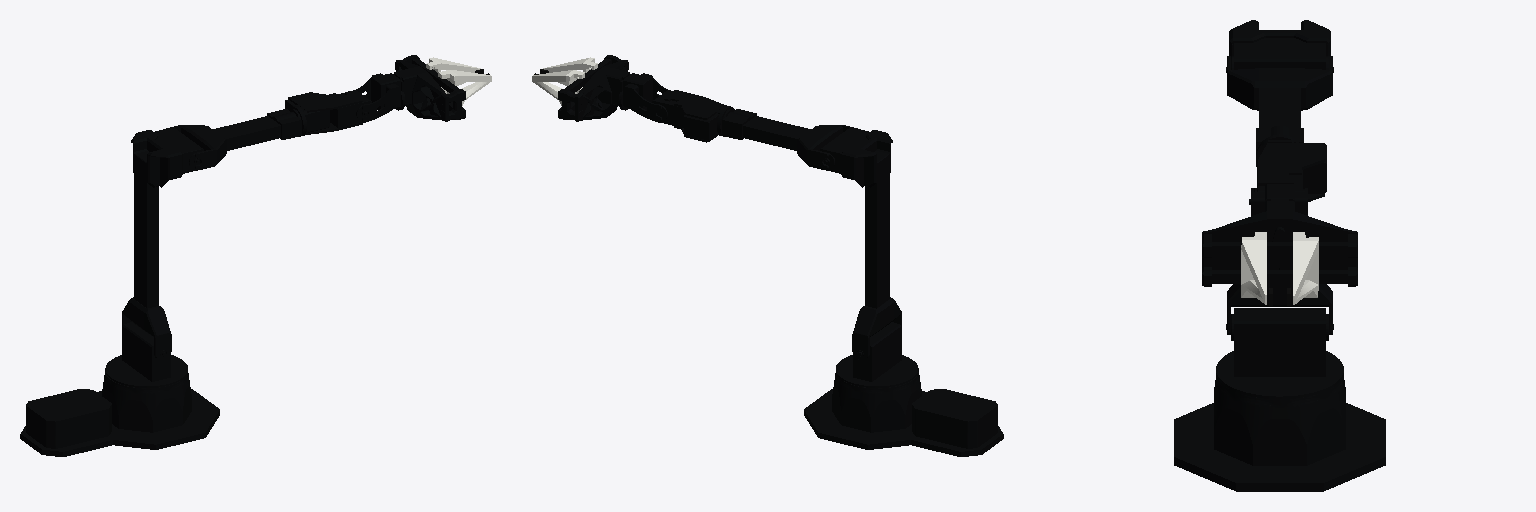
URDF robot description (aloha_right):
<?xml version='1.0' encoding='utf-8'?>
<robot name="aloha_right">
  <link name="right">
    <inertial>
      <mass value="0.1" />
      <inertia ixx=".0001" iyy=".0001" izz=".0001" ixy="0" ixz="0" iyz="0" />
    </inertial>
    <visual>
      <origin xyz="0 0 0" rpy="0 0 1.570796327" />
      <geometry>
        <mesh filename="meshes/vx300s_1_base.stl" />
      </geometry>
      <material name="black_robot">
        <color rgba=".065 .07 .075 1" />
      </material>
    </visual>
  </link>
  <link name="right_shoulder_link">
    <inertial>
      <origin xyz="0.000259233 -3.3552e-06 0.0116129" rpy="1.570025565 -1.477348336 -3.140821891" />
      <mass value="0.798614" />
      <inertia ixx="0.00120156" iyy="0.00113744" izz="0.0009388" ixy="0" ixz="0" iyz="0" />
    </inertial>
    <visual>
      <origin xyz="0 0 -0.003" rpy="0 0 1.570796327" />
      <geometry>
        <mesh filename="meshes/vx300s_2_shoulder.stl" />
      </geometry>
      <material name="black_robot">
        <color rgba=".065 .07 .075 1" />
      </material>
    </visual>
    <collision>
      <origin xyz="0 0 -0.003" rpy="0 0 1.570796327" />
      <geometry>
        <mesh filename="meshes/vx300s_2_shoulder.stl" />
      </geometry>
    </collision>
  </link>
  <joint name="right_waist" type="revolute">
    <parent link="right" />
    <child link="right_shoulder_link" />
    <origin xyz="0 0 0.079" rpy="0 0 0" />
    <axis xyz="0 0 1" />
    <limit lower="-3.14158" upper="3.14158" effort="80" velocity="5" />
    <dynamics damping="0.1" />
    <rest>0</rest>
  </joint>
  <link name="right_upper_arm_link">
    <inertial>
      <origin xyz="0.0206949 4e-10 0.226459" rpy="0 -0.1458207924 3.141592654" />
      <mass value="0.792592" />
      <inertia ixx="0.00911338" iyy="0.008925" izz="0.000759317" ixy="0" ixz="0" iyz="0" />
    </inertial>
    <visual>
      <origin xyz="0 0 0" rpy="0 0 1.570796327" />
      <geometry>
        <mesh filename="meshes/vx300s_3_upper_arm.stl" />
      </geometry>
      <material name="black_robot">
        <color rgba=".065 .07 .075 1" />
      </material>
    </visual>
    <collision>
      <origin xyz="0 0 0" rpy="0 0 1.570796327" />
      <geometry>
        <mesh filename="meshes/vx300s_3_upper_arm.stl" />
      </geometry>
    </collision>
  </link>
  <joint name="right_shoulder" type="revolute">
    <parent link="right_shoulder_link" />
    <child link="right_upper_arm_link" />
    <origin xyz="0 0 0.04805" rpy="0 0 0" />
    <axis xyz="0 1 0" />
    <limit lower="-1.85005" upper="1.25664" effort="80" velocity="5" />
    <dynamics damping="0.1" />
    <rest>-0.96</rest>
  </joint>
  <link name="right_upper_forearm_link">
    <inertial>
      <origin xyz="0.105723 0 0" rpy="1.137466858 -1.555300818 2.019896091" />
      <mass value="0.322228" />
      <inertia ixx="0.00144107" iyy="0.00134228" izz="0.000152047" ixy="0" ixz="0" iyz="0" />
    </inertial>
    <visual>
      <origin xyz="0 0 0" rpy="0 0 0" />
      <geometry>
        <mesh filename="meshes/vx300s_4_upper_forearm.stl" />
      </geometry>
      <material name="black_robot">
        <color rgba=".065 .07 .075 1" />
      </material>
    </visual>
    <collision>
      <origin xyz="0 0 0" rpy="0 0 0" />
      <geometry>
        <mesh filename="meshes/vx300s_4_upper_forearm.stl" />
      </geometry>
    </collision>
  </link>
  <joint name="right_elbow" type="revolute">
    <parent link="right_upper_arm_link" />
    <child link="right_upper_forearm_link" />
    <origin xyz="0.05955 0 0.3" rpy="0 0 0" />
    <axis xyz="0 1 0" />
    <limit lower="-1.76278" upper="1.6057" effort="80" velocity="5" />
    <dynamics damping="0.1" />
    <rest>1.16</rest>
  </joint>
  <link name="right_lower_forearm_link">
    <inertial>
      <origin xyz="0.0513477 0.00680462 0" rpy="0.2258271179 1.570796327 0" />
      <mass value="0.414823" />
      <inertia ixx="0.0005911" iyy="0.000546493" izz="0.000155707" ixy="0" ixz="0" iyz="0" />
    </inertial>
    <visual>
      <origin xyz="0 0 0" rpy="3.141592654 0 0" />
      <geometry>
        <mesh filename="meshes/vx300s_5_lower_forearm.stl" />
      </geometry>
      <material name="black_robot">
        <color rgba=".065 .07 .075 1" />
      </material>
    </visual>
    <collision>
      <origin xyz="0 0 0" rpy="3.141592654 0 0" />
      <geometry>
        <mesh filename="meshes/vx300s_5_lower_forearm.stl" />
      </geometry>
    </collision>
  </link>
  <joint name="right_forearm_roll" type="revolute">
    <parent link="right_upper_forearm_link" />
    <child link="right_lower_forearm_link" />
    <origin xyz="0.2 0 0" rpy="0 0 0" />
    <axis xyz="1 0 0" />
    <limit lower="-3.14158" upper="3.14158" effort="80" velocity="5" />
    <dynamics damping="0.1" />
    <rest>0</rest>
  </joint>
  <link name="right_wrist_link">
    <inertial>
      <origin xyz="0.046743 -7.6652e-06 0.010565" rpy="0.008277755597 -1.151791261 3.138606937" />
      <mass value="0.115395" />
      <inertia ixx="5.45707e-05" iyy="4.63101e-05" izz="4.32692e-05" ixy="0" ixz="0" iyz="0" />
    </inertial>
    <visual>
      <origin xyz="0 0 0" rpy="0 0 1.570796327" />
      <geometry>
        <mesh filename="meshes/vx300s_6_wrist.stl" />
      </geometry>
      <material name="black_robot">
        <color rgba=".065 .07 .075 1" />
      </material>
    </visual>
    <collision>
      <origin xyz="0 0 0" rpy="0 0 1.570796327" />
      <geometry>
        <mesh filename="meshes/vx300s_6_wrist.stl" />
      </geometry>
    </collision>
  </link>
  <joint name="right_wrist_angle" type="revolute">
    <parent link="right_lower_forearm_link" />
    <child link="right_wrist_link" />
    <origin xyz="0.1 0 0" rpy="0 0 0" />
    <axis xyz="0 1 0" />
    <limit lower="-1.8675" upper="2.23402" effort="80" velocity="5" />
    <dynamics damping="0.1" />
    <rest>-0.3</rest>
  </joint>
  <link name="right_gripper_link">
    <inertial>
      <origin xyz="0.0395662 -2.56311e-07 0.00400649" rpy="1.569606202 -1.002483763 0.0009536419229" />
      <mass value="0.251652" />
      <inertia ixx="0.000689546" iyy="0.000650316" izz="0.000468142" ixy="0" ixz="0" iyz="0" />
    </inertial>
    <visual>
      <origin xyz="-0.02 0 0" rpy="0 0 1.570796327" />
      <geometry>
        <mesh filename="meshes/vx300s_7_gripper.stl" />
      </geometry>
      <material name="black_robot">
        <color rgba=".065 .07 .075 1" />
      </material>
    </visual>
    <collision>
      <origin xyz="-0.02 0 0" rpy="0 0 1.570796327" />
      <geometry>
        <mesh filename="meshes/vx300s_7_gripper.stl" />
      </geometry>
    </collision>
    <visual>
      <origin xyz="-0.020175 0 0" rpy="0 0 1.570796327" />
      <geometry>
        <mesh filename="meshes/vx300s_9_gripper_bar.stl" />
      </geometry>
      <material name="black_robot">
        <color rgba=".065 .07 .075 1" />
      </material>
    </visual>
    <collision>
      <origin xyz="-0.020175 0 0" rpy="0 0 1.570796327" />
      <geometry>
        <mesh filename="meshes/vx300s_9_gripper_bar.stl" />
      </geometry>
    </collision>
  </link>
  <joint name="right_wrist_rotate" type="revolute">
    <parent link="right_wrist_link" />
    <child link="right_gripper_link" />
    <origin xyz="0.069744 0 0" rpy="0 0 0" />
    <axis xyz="1 0 0" />
    <limit lower="-3.14158" upper="3.14158" effort="80" velocity="5" />
    <dynamics damping="0.1" />
    <rest>0</rest>
  </joint>
  <link name="right_gripper_prop_link">
    <inertial>
      <origin xyz="0.002378 2.85e-08 0" rpy="2.229034153 0 3.141592654" />
      <mass value="0.008009" />
      <inertia ixx="4.2979e-06" iyy="2.8868e-06" izz="1.5314e-06" ixy="0" ixz="0" iyz="0" />
    </inertial>
    <visual>
      <origin xyz="-0.0685 0 0" rpy="0 0 1.570796327" />
      <geometry>
        <mesh filename="meshes/vx300s_8_gripper_prop.stl" />
      </geometry>
      <material name="black_robot">
        <color rgba=".065 .07 .075 1" />
      </material>
    </visual>
    <collision>
      <origin xyz="-0.0685 0 0" rpy="0 0 1.570796327" />
      <geometry>
        <mesh filename="meshes/vx300s_8_gripper_prop.stl" />
      </geometry>
    </collision>
  </link>
  <joint name="right_gripper_prop_link_fixed" type="fixed">
    <parent link="right_gripper_link" />
    <child link="right_gripper_prop_link" />
    <origin xyz="0.0485 0 0" rpy="0 0 0" />
  </joint>
  <link name="right_left_finger_link">
    <inertial>
      <origin xyz="0.017344 -0.0060692 0" rpy="1.570796327 0 -1.764289971" />
      <mass value="0.034796" />
      <inertia ixx="2.48003e-05" iyy="1.417e-05" izz="1.20797e-05" ixy="0" ixz="0" iyz="0" />
    </inertial>
    <visual>
      <origin xyz="0.005 -0.052 0" rpy="2.034443555 -1.569015686 1.107148464" />
      <geometry>
        <mesh filename="meshes/vx300s_10_custom_finger_left.stl" />
      </geometry>
      <material name="white_fingers">
        <color rgba=".92 .92 .89 1" />
      </material>
    </visual>
    <collision>
      <geometry>
        <mesh filename="meshes/right_left_finger_link_collision_0.stl" />
      </geometry>
    </collision>
    <collision>
      <geometry>
        <mesh filename="meshes/right_left_finger_link_collision_1.stl" />
      </geometry>
    </collision>
    <collision>
      <geometry>
        <mesh filename="meshes/right_left_finger_link_collision_2.stl" />
      </geometry>
    </collision>
    <collision>
      <geometry>
        <mesh filename="meshes/right_left_finger_link_collision_3.stl" />
      </geometry>
    </collision>
    <collision>
      <geometry>
        <mesh filename="meshes/right_left_finger_link_collision_4.stl" />
      </geometry>
    </collision>
    <visual>
      <origin xyz=".078 -0.026 0" rpy="0 0 0" />
      <geometry>
        <box size=".014 .004 .012" />
      </geometry>
      <material name="estimated_contact_pad">
        <color rgba=".08 .08 .08 1" />
      </material>
    </visual>
    <collision>
      <origin xyz=".078 -0.026 0" rpy="0 0 0" />
      <geometry>
        <box size=".014 .004 .012" />
      </geometry>
    </collision>
  </link>
  <joint name="right_left_finger" type="prismatic">
    <parent link="right_gripper_link" />
    <child link="right_left_finger_link" />
    <origin xyz="0.0687 0 0" rpy="0 0 0" />
    <axis xyz="0 1 0" />
    <limit lower="0.005" upper="0.065" effort="15" velocity=".2" />
    <dynamics damping="0.05" />
    <rest>0.02239</rest>
  </joint>
  <link name="right_right_finger_link">
    <inertial>
      <origin xyz="0.017344 0.0060692 0" rpy="-1.570796327 0 -1.764267881" />
      <mass value="0.034796" />
      <inertia ixx="2.48002e-05" iyy="1.417e-05" izz="1.20798e-05" ixy="0" ixz="0" iyz="0" />
    </inertial>
    <visual>
      <origin xyz="0.005 0.052 0" rpy="2.034443555 -1.569015686 1.107148464" />
      <geometry>
        <mesh filename="meshes/vx300s_10_custom_finger_right.stl" />
      </geometry>
      <material name="white_fingers">
        <color rgba=".92 .92 .89 1" />
      </material>
    </visual>
    <collision>
      <geometry>
        <mesh filename="meshes/right_right_finger_link_collision_0.stl" />
      </geometry>
    </collision>
    <collision>
      <geometry>
        <mesh filename="meshes/right_right_finger_link_collision_1.stl" />
      </geometry>
    </collision>
    <collision>
      <geometry>
        <mesh filename="meshes/right_right_finger_link_collision_2.stl" />
      </geometry>
    </collision>
    <collision>
      <geometry>
        <mesh filename="meshes/right_right_finger_link_collision_3.stl" />
      </geometry>
    </collision>
    <collision>
      <geometry>
        <mesh filename="meshes/right_right_finger_link_collision_4.stl" />
      </geometry>
    </collision>
    <visual>
      <origin xyz=".078 0.026 0" rpy="0 0 0" />
      <geometry>
        <box size=".014 .004 .012" />
      </geometry>
      <material name="estimated_contact_pad">
        <color rgba=".08 .08 .08 1" />
      </material>
    </visual>
    <collision>
      <origin xyz=".078 0.026 0" rpy="0 0 0" />
      <geometry>
        <box size=".014 .004 .012" />
      </geometry>
    </collision>
  </link>
  <joint name="right_right_finger" type="prismatic">
    <parent link="right_gripper_link" />
    <child link="right_right_finger_link" />
    <origin xyz="0.0687 0 0" rpy="0 0 0" />
    <axis xyz="0 1 0" />
    <limit lower="-0.065" upper="-0.005" effort="15" velocity=".2" />
    <dynamics damping="0.05" />
    <rest>-0.02239</rest>
  </joint>
</robot>

--- Facts derived from the render (not from the file) ---
The picture shows the robot from 3 angles, left to right: view 1: azimuth 30°, elevation 25°; view 2: azimuth 150°, elevation 25°; view 3: azimuth 270°, elevation 25°; orthographic projection.
Robot: aloha_right — 10 links, 9 joints (6 revolute, 2 prismatic, 1 fixed); root link right; default pose: all joints at 0 but 2 set to mid-range because 0 is outside their limits (right_left_finger = 0.035, right_right_finger = -0.035).
Links seen in each view (by area): view 1: right, right_upper_arm_link, right_upper_forearm_link, right_shoulder_link, right_gripper_link, right_lower_forearm_link, right_wrist_link, right_right_finger_link; view 2: right, right_upper_arm_link, right_upper_forearm_link, right_shoulder_link, right_gripper_link, right_lower_forearm_link, right_wrist_link, right_left_finger_link; view 3: right, right_shoulder_link, right_gripper_link, right_upper_arm_link, right_upper_forearm_link, right_lower_forearm_link, right_left_finger_link, right_right_finger_link, right_wrist_link.
Boxes of the visible links, x1,y1,x2,y2 form: right: [20, 371, 219, 456]; right_upper_arm_link: [122, 127, 203, 357]; right_upper_forearm_link: [166, 109, 301, 170]; right_shoulder_link: [105, 322, 187, 387]; right_gripper_link: [394, 55, 465, 121]; right_lower_forearm_link: [285, 90, 371, 136]; right_wrist_link: [348, 73, 403, 122]; right_right_finger_link: [438, 70, 491, 105]; right: [804, 371, 1003, 456]; right_upper_arm_link: [820, 127, 901, 357]; right_upper_forearm_link: [722, 109, 857, 170]; right_shoulder_link: [836, 322, 918, 387]; right_gripper_link: [558, 55, 629, 121]; right_lower_forearm_link: [652, 90, 734, 142]; right_wrist_link: [620, 73, 667, 122]; right_left_finger_link: [532, 70, 584, 105]; right: [1174, 376, 1385, 491]; right_shoulder_link: [1216, 308, 1343, 398]; right_gripper_link: [1202, 199, 1357, 286]; right_upper_arm_link: [1226, 20, 1333, 334]; right_upper_forearm_link: [1227, 56, 1332, 166]; right_lower_forearm_link: [1249, 134, 1326, 204]; right_left_finger_link: [1287, 232, 1318, 305]; right_right_finger_link: [1241, 232, 1272, 305]; right_wrist_link: [1251, 184, 1307, 215].
Bounding box of the posed robot: 0.7805 × 0.204 × 0.4623 m (x, y, z).
Meshes: 11 distinct files referenced, 11 mesh visuals loaded (11 binary STL).
